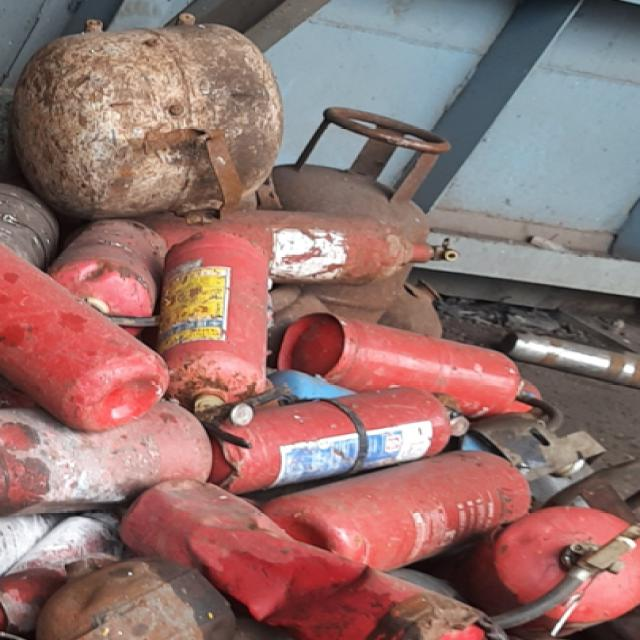cylinder: (10, 13, 284, 226), (158, 228, 292, 449), (232, 208, 459, 285)
